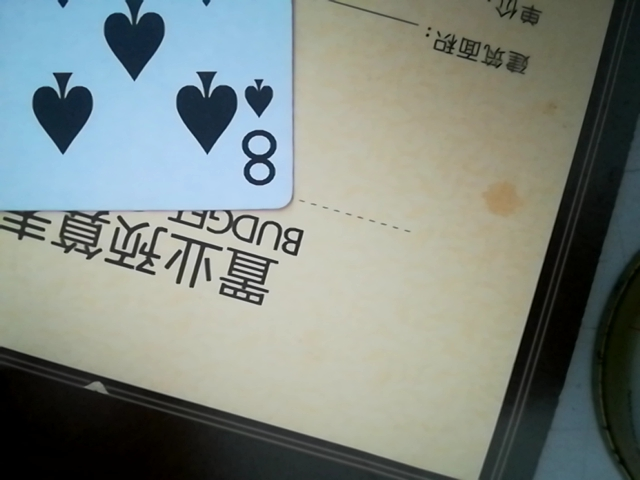ht 8: (0, 0, 302, 219)
